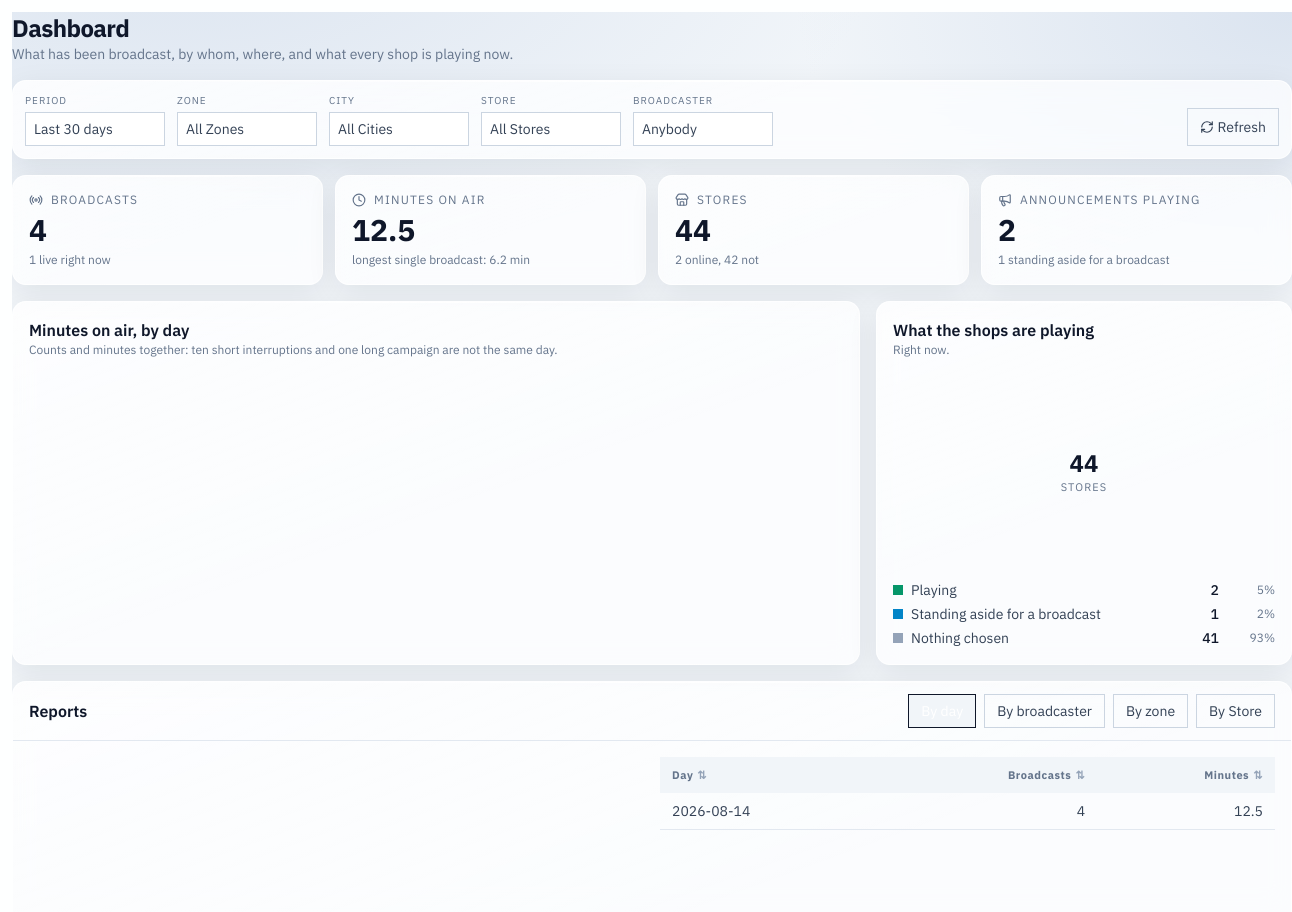
it: an empty report says so rather than showing an empty table
Expected: the element with test id "tile-broadcasts" is shown, [12, 175, 323, 285]
Click the button with test id "report-tab-by_store".
click(1236, 711)  # box [1196, 694, 1275, 728]
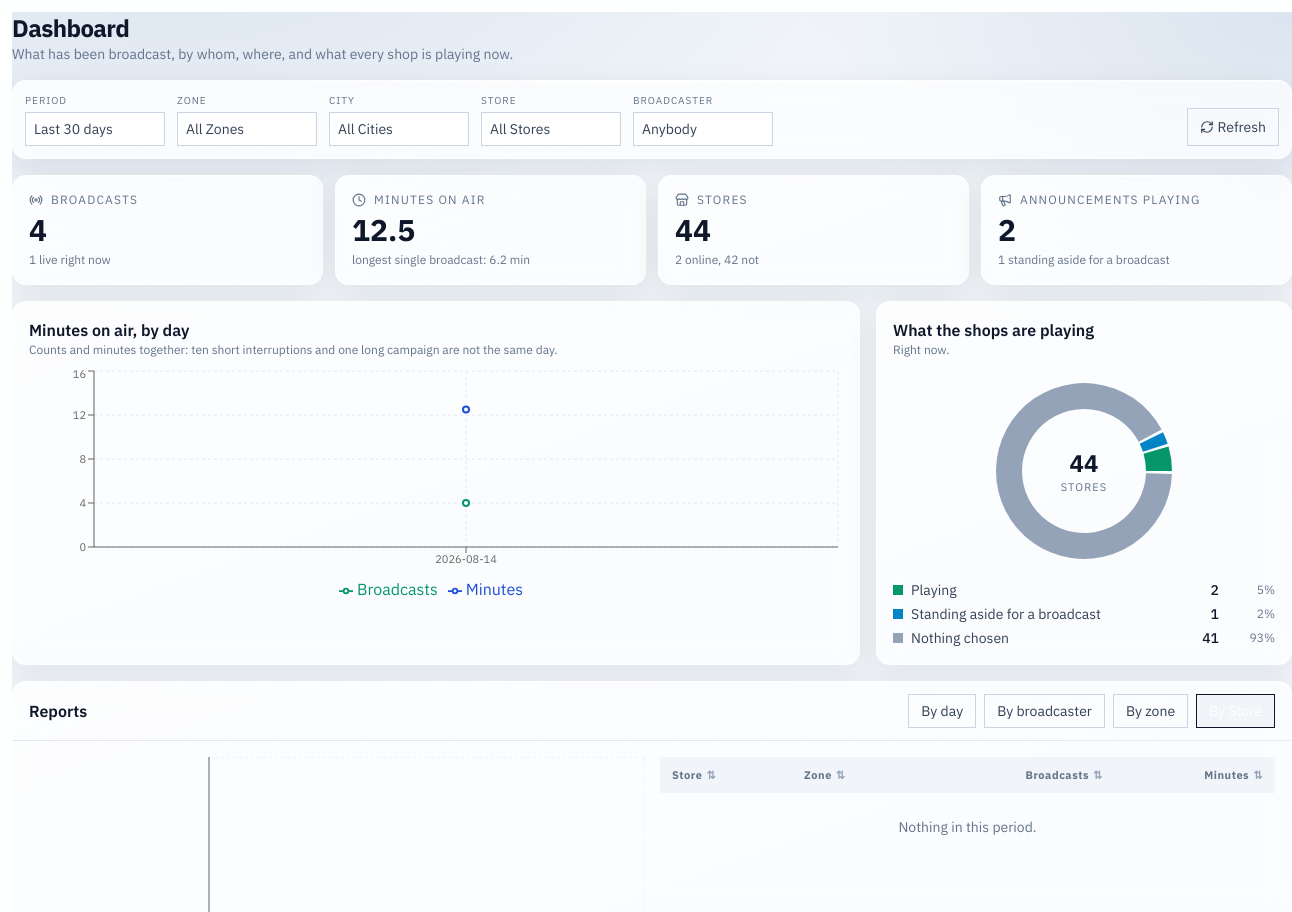
Expected: the cell with test id "report-empty-by_store" shows "Nothing in this period", [898, 818, 1037, 836]
